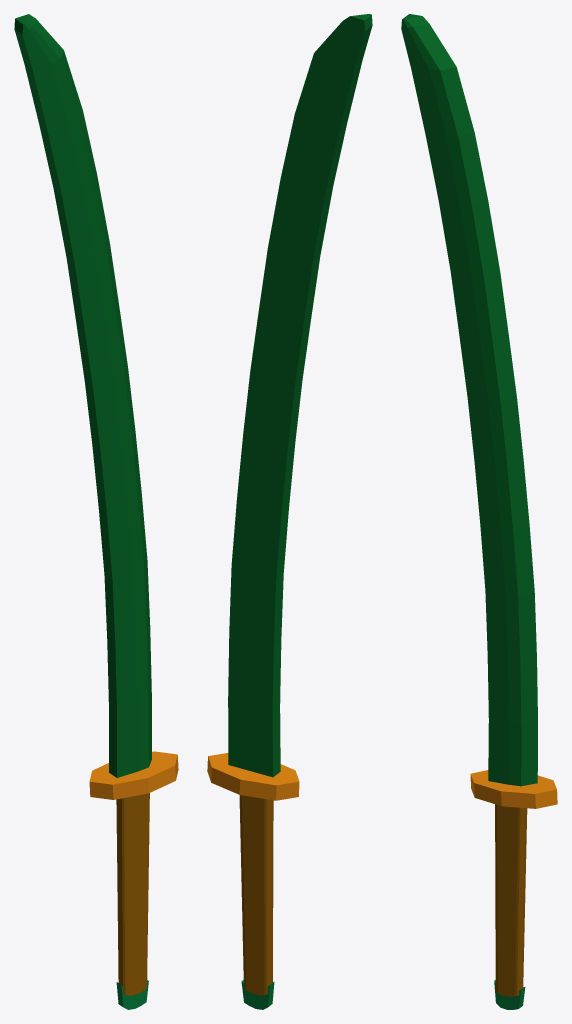
The model's file is katana-cuatro-concept.fbx.
The picture shows the model from 3 angles, left to right: view 1: azimuth 30°, elevation 25°; view 2: azimuth 150°, elevation 25°; view 3: azimuth 330°, elevation 25°; orthographic projection. The views are drawn at different scales.
Visible parts, largest first — view 1: Plane.001, Cube, Cylinder, Plane; view 2: Plane.001, Cube, Cylinder, Plane; view 3: Plane.001, Cube, Cylinder, Plane.
Part boxes in pixels (bbox=[...]): Plane.001: bbox=[14, 14, 151, 777]; Cube: bbox=[116, 793, 149, 995]; Cylinder: bbox=[89, 751, 178, 799]; Plane: bbox=[116, 980, 148, 1009]; Plane.001: bbox=[228, 14, 372, 777]; Cube: bbox=[239, 795, 273, 995]; Cylinder: bbox=[207, 753, 299, 800]; Plane: bbox=[241, 980, 274, 1009]; Plane.001: bbox=[401, 14, 537, 786]; Cube: bbox=[495, 804, 527, 996]; Cylinder: bbox=[470, 770, 557, 808]; Plane: bbox=[494, 980, 525, 1009].
Size of the model in its own units: 76.04 by 459 by 23.03.
